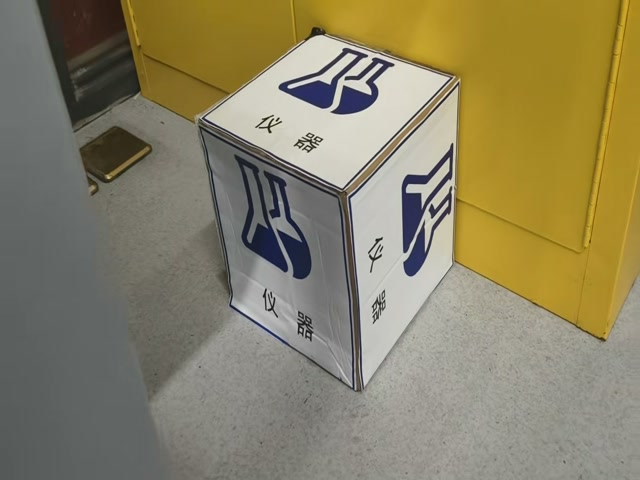Cube_ins: (191, 36, 457, 197)
